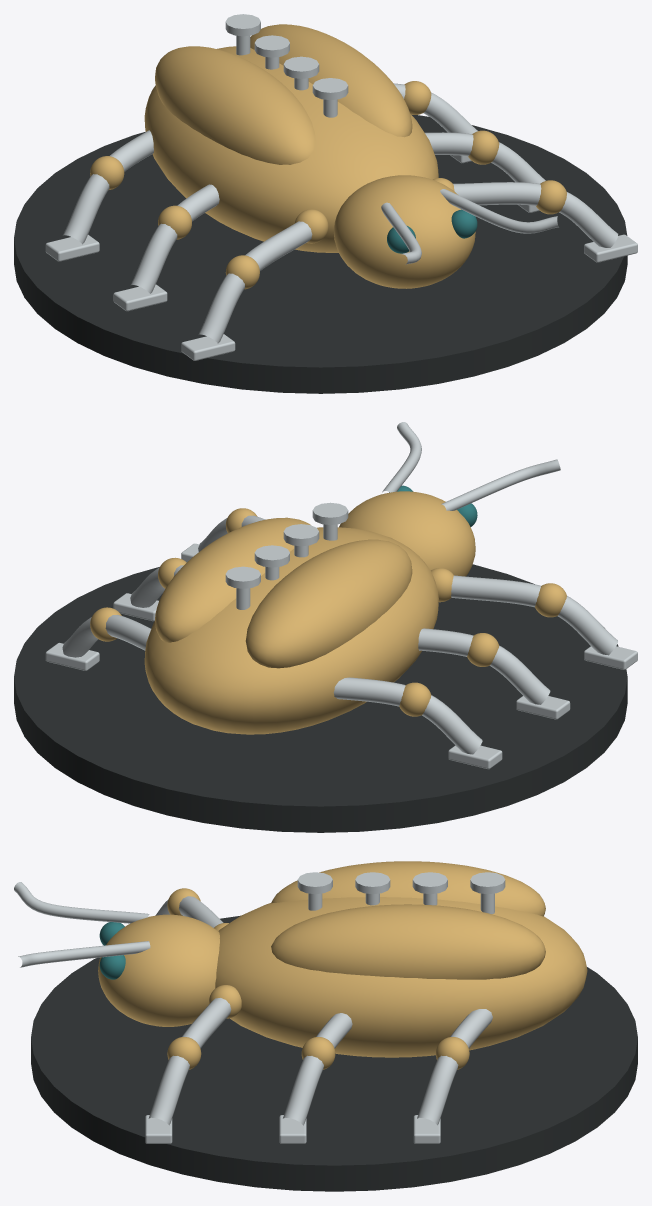
Rendered from tabletop-hobby-store-and-club-articulated-brass-beetle-f4b7ffd3__31604.glb.
3 renders of one model, top to bottom at view 1: azimuth 30°, elevation 25°; view 2: azimuth 150°, elevation 25°; view 3: azimuth 270°, elevation 25°, orthographic.
Visible parts, largest first — view 1: articulated-brass-beetle-miniature; view 2: articulated-brass-beetle-miniature; view 3: articulated-brass-beetle-miniature.
Part boxes in pixels (left/top/right/bottom): articulated-brass-beetle-miniature: left=14, top=14, right=637, bottom=393; articulated-brass-beetle-miniature: left=14, top=422, right=637, bottom=832; articulated-brass-beetle-miniature: left=14, top=861, right=637, bottom=1191.
Bounding box in the file's own units: 0.0475 × 0.0159 × 0.0488.
